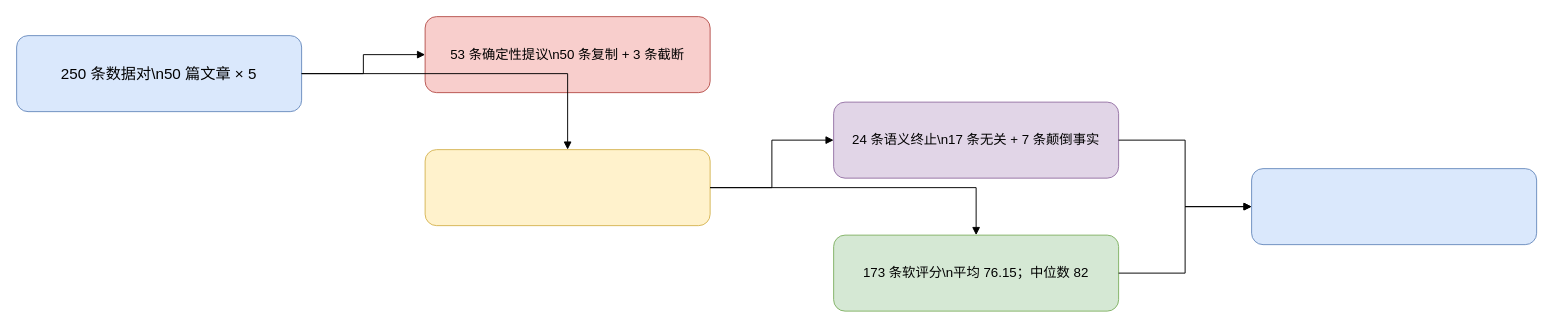
Some shapes in this 1553 by 328 pixel diagram are drawn without their labels. The centre of each missing label's shape, as x and y in pixels:
197 条幸存者\nembedding + grounding: point (567, 187)
250 条最终复核记录\n0 条升级；155 条修订: point (1394, 206)
